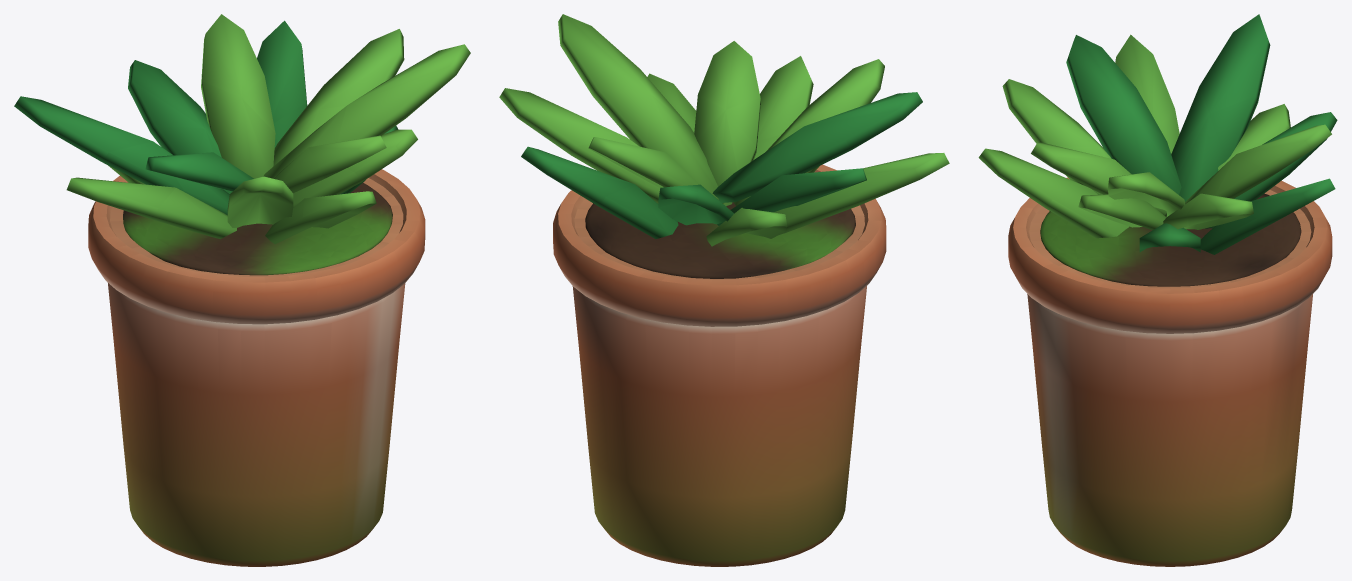
The model's file is canopy_pot_plant.glb.
3 views of the same model, side by side, from view 1: azimuth 30°, elevation 25°; view 2: azimuth 150°, elevation 25°; view 3: azimuth 270°, elevation 25° (orthographic). The views are drawn at different scales.
Visible parts, largest first — view 1: canopy_pot_plant; view 2: canopy_pot_plant; view 3: canopy_pot_plant.
Part boxes in pixels (<box>): canopy_pot_plant: <box>14,14,470,566</box>; canopy_pot_plant: <box>499,14,949,566</box>; canopy_pot_plant: <box>978,14,1337,566</box>.
Size of the model in its own units: 4.43 by 4.71 by 3.58.
